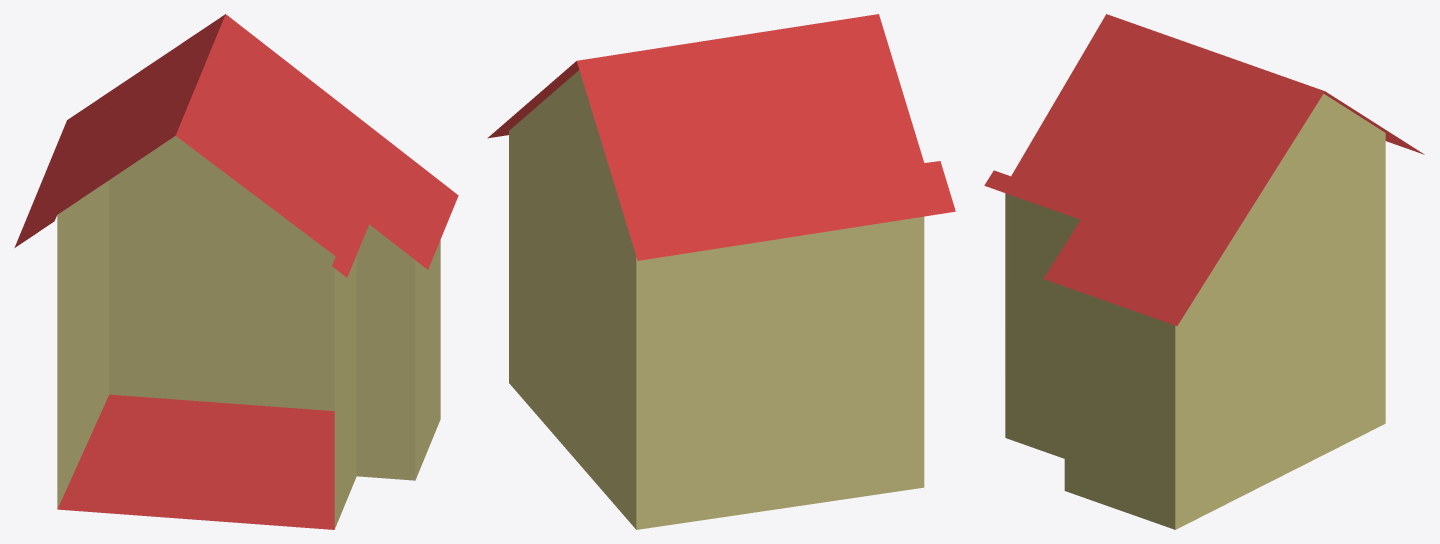
3 views of the same model, side by side, from view 1: azimuth 30°, elevation 25°; view 2: azimuth 150°, elevation 25°; view 3: azimuth 270°, elevation 25° (orthographic). The views are drawn at different scales.
Size of the model in its own units: 16.24 by 14.64 by 13.64.
